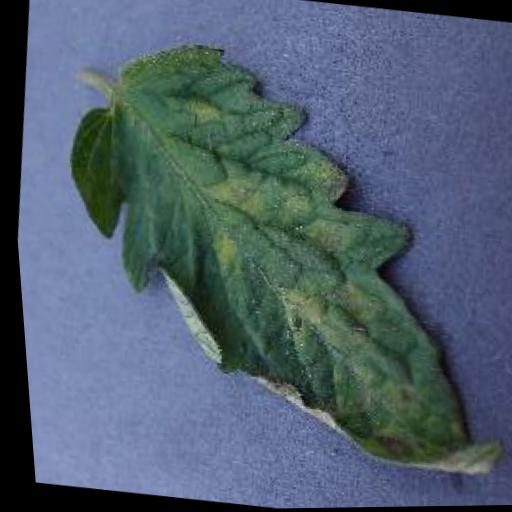Leaf Mold: (25, 30, 512, 484)
